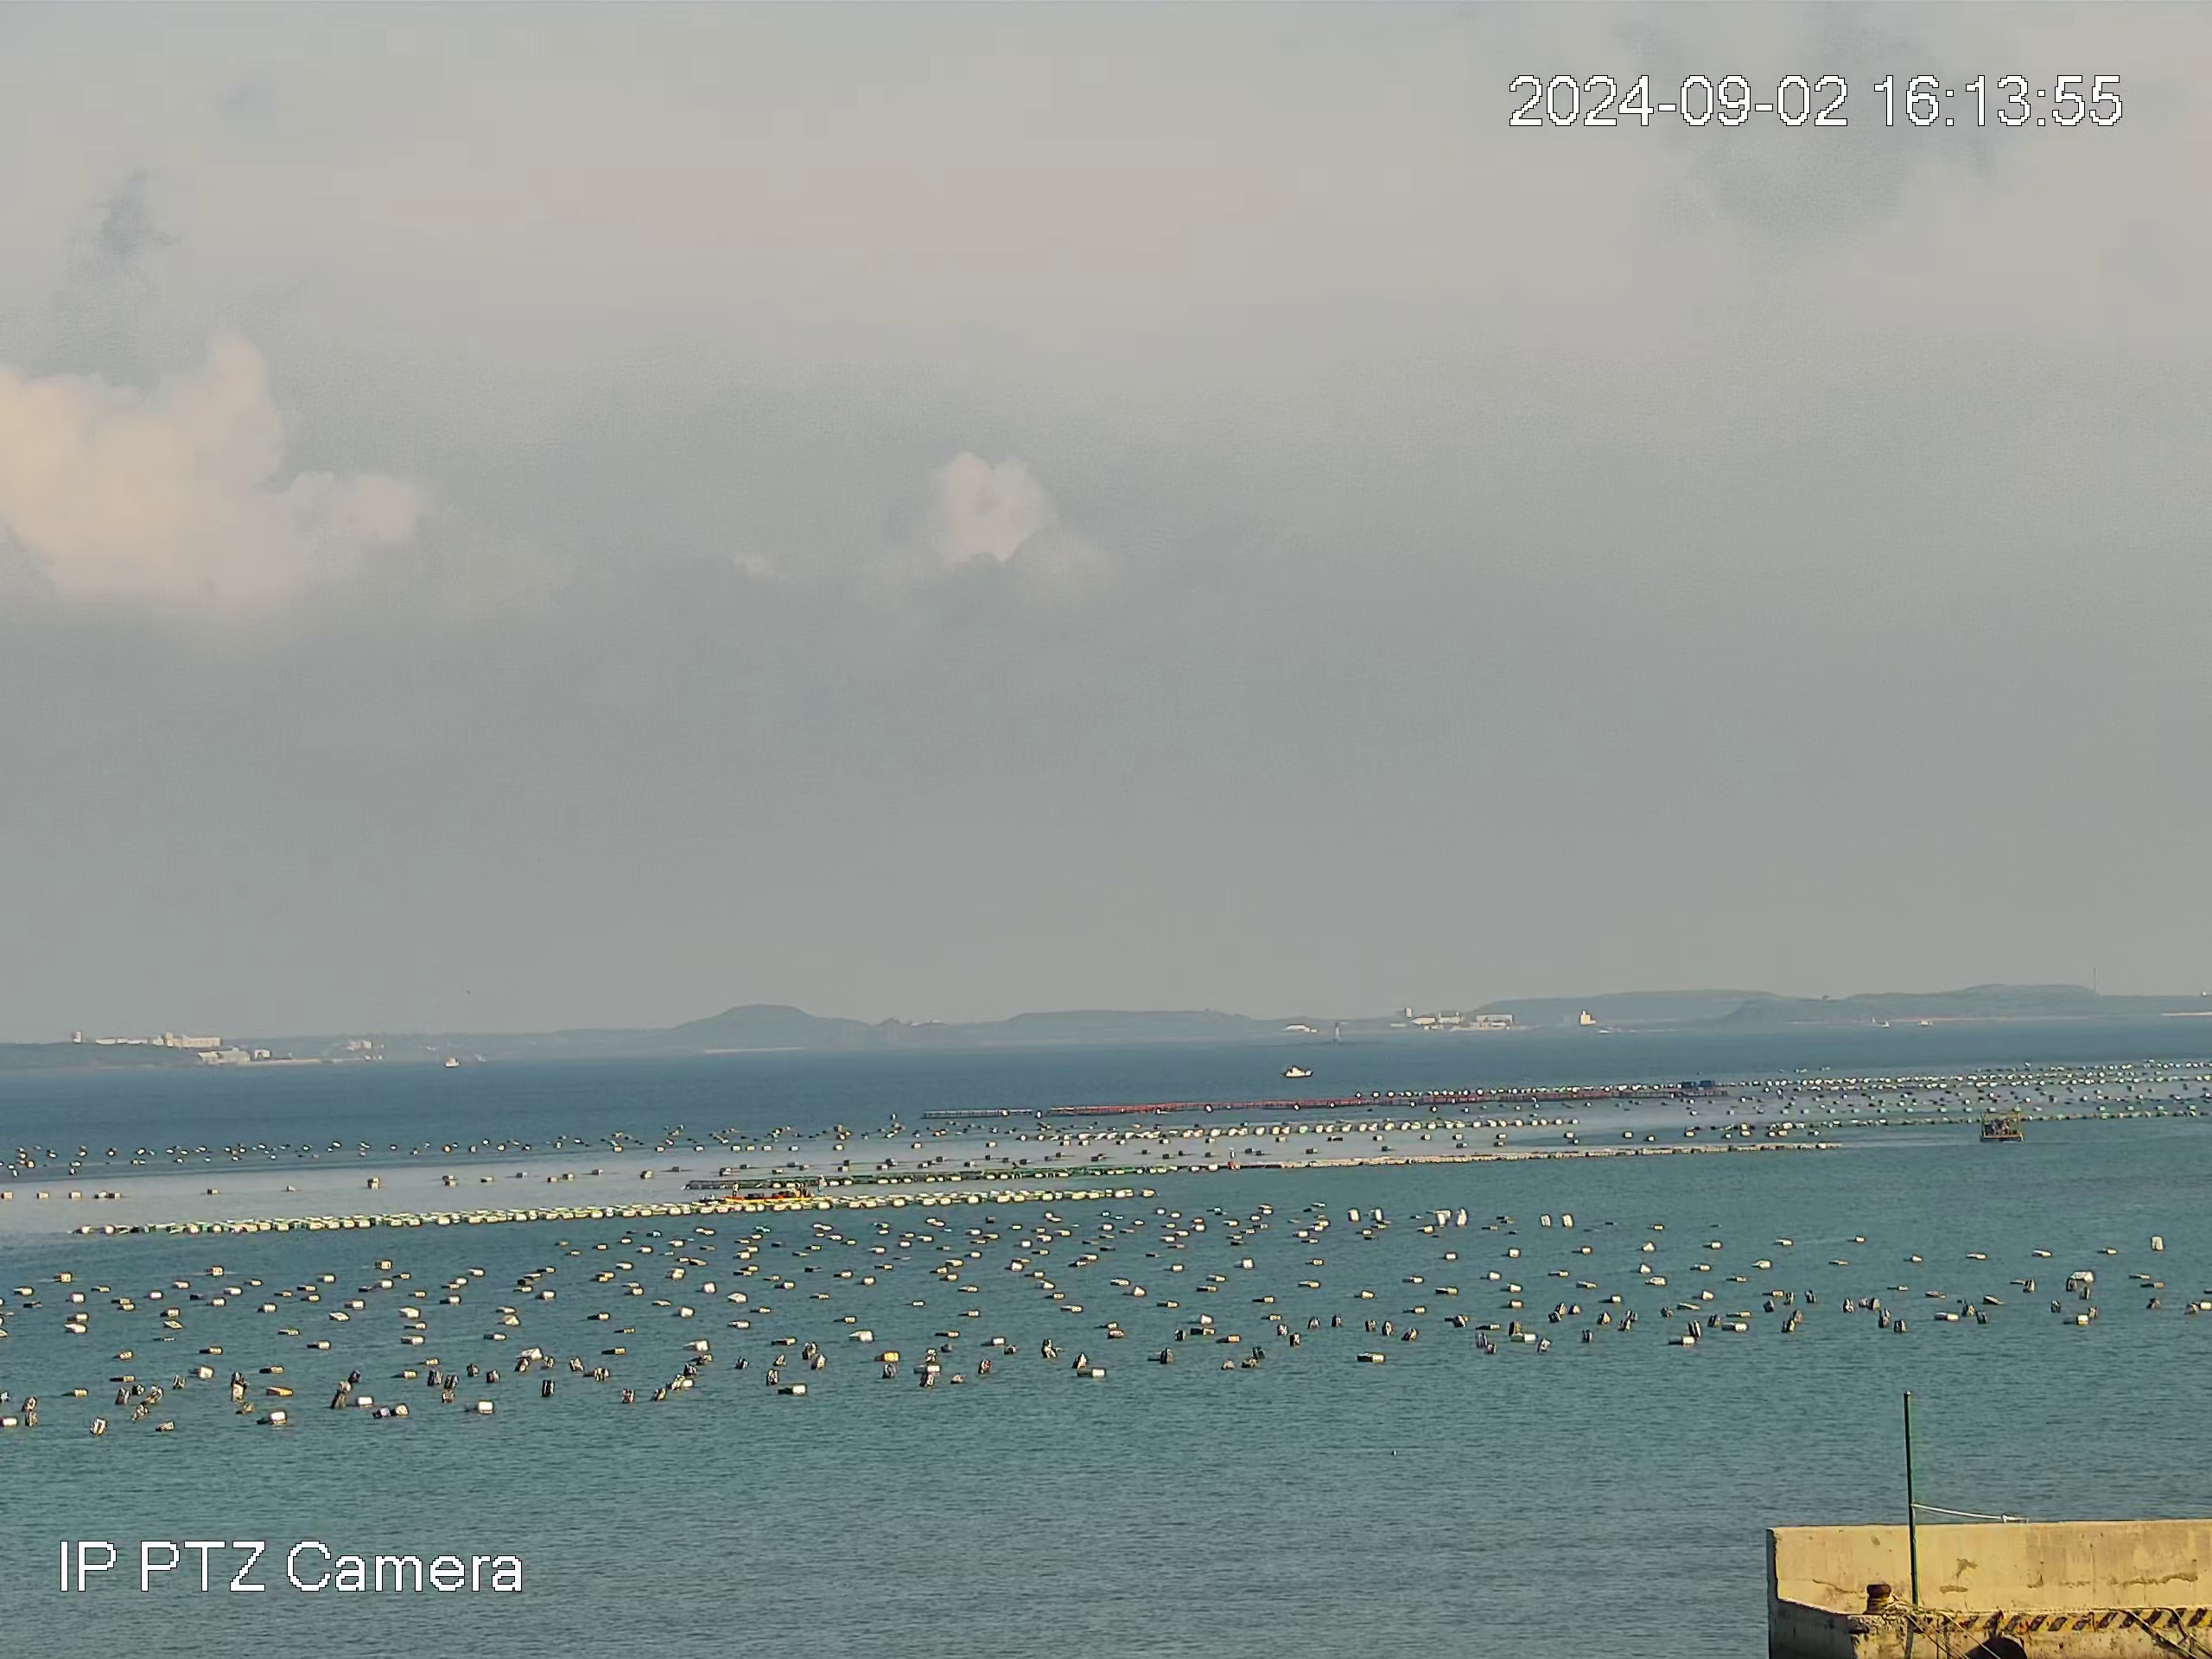boat: (723, 1180, 813, 1202), (1977, 1110, 2026, 1143), (1282, 1063, 1313, 1079)
